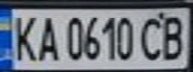0: (60, 12, 84, 62), (115, 14, 139, 62)
1: (100, 12, 118, 61)
6: (81, 12, 103, 62)
A: (33, 12, 60, 63)
B: (157, 11, 190, 62)
C: (136, 12, 169, 62)
K: (6, 11, 39, 63)
